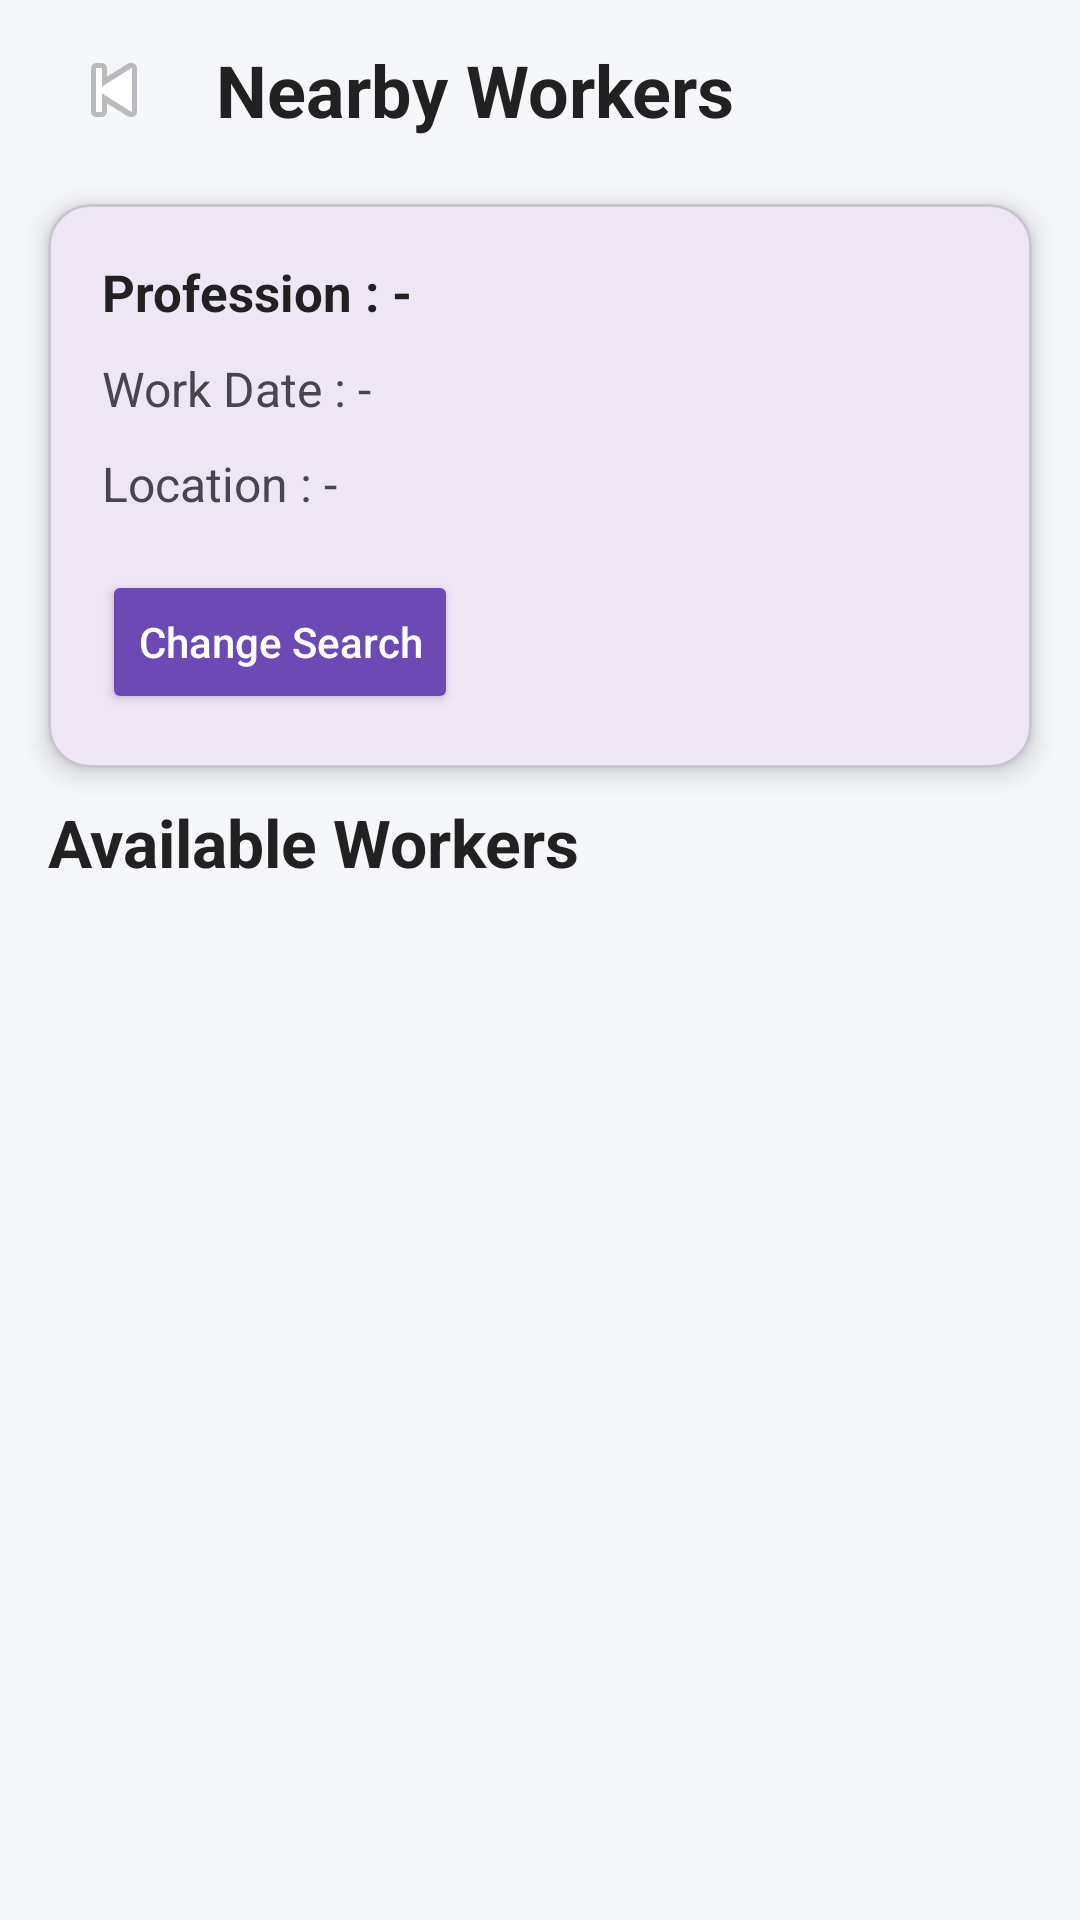

Where to tap for icons on this 1080*1920 app screen, as (x,y):
Back: (114,90)
